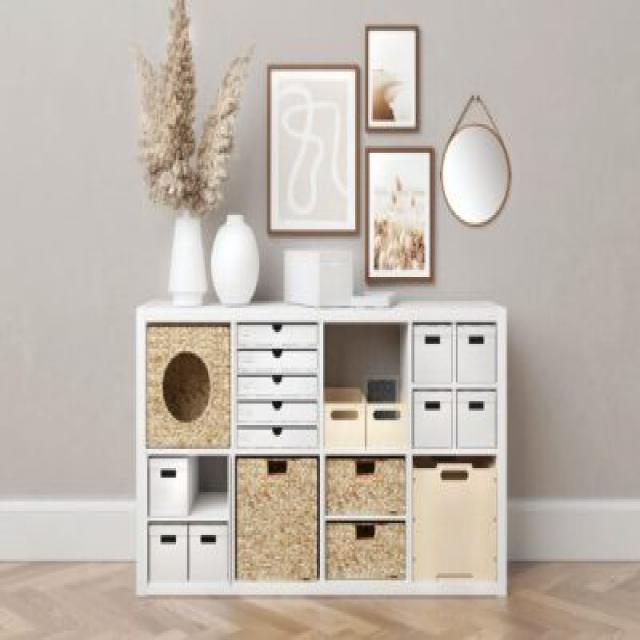Shelf: (131, 292, 514, 610)
